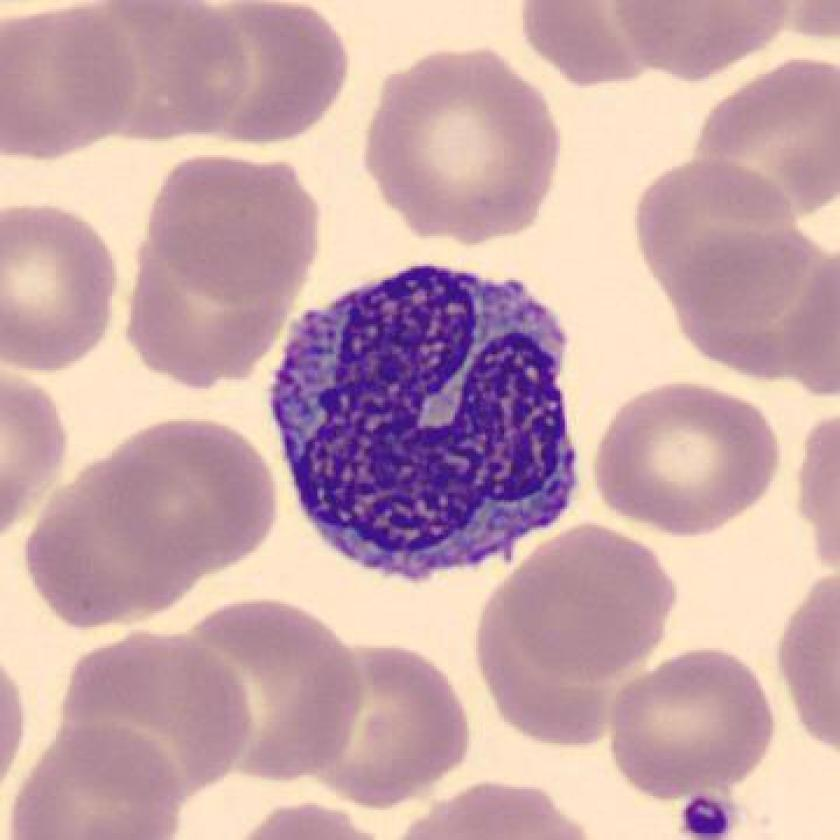monocyte: (253, 239, 608, 598)
